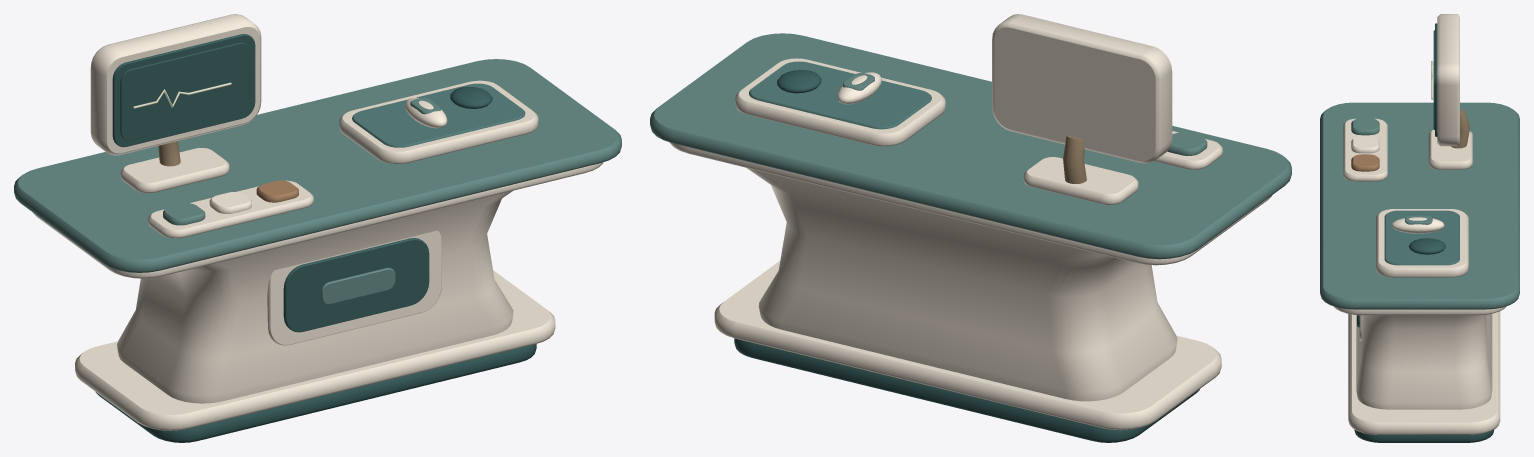
Rendered from consult-workstation.glb.
3 views of the same model, side by side, from view 1: azimuth 30°, elevation 25°; view 2: azimuth 150°, elevation 25°; view 3: azimuth 270°, elevation 25° (orthographic). The views are drawn at different scales.
Parts seen in each view (by area): view 1: consult-workstation; view 2: consult-workstation; view 3: consult-workstation.
Part boxes in pixels (x1,y1,x2,y2): consult-workstation: (14,14,621,442); consult-workstation: (650,14,1291,442); consult-workstation: (1320,14,1519,442).
Size of the model in its own units: 1.84 by 1.22 by 0.78.
